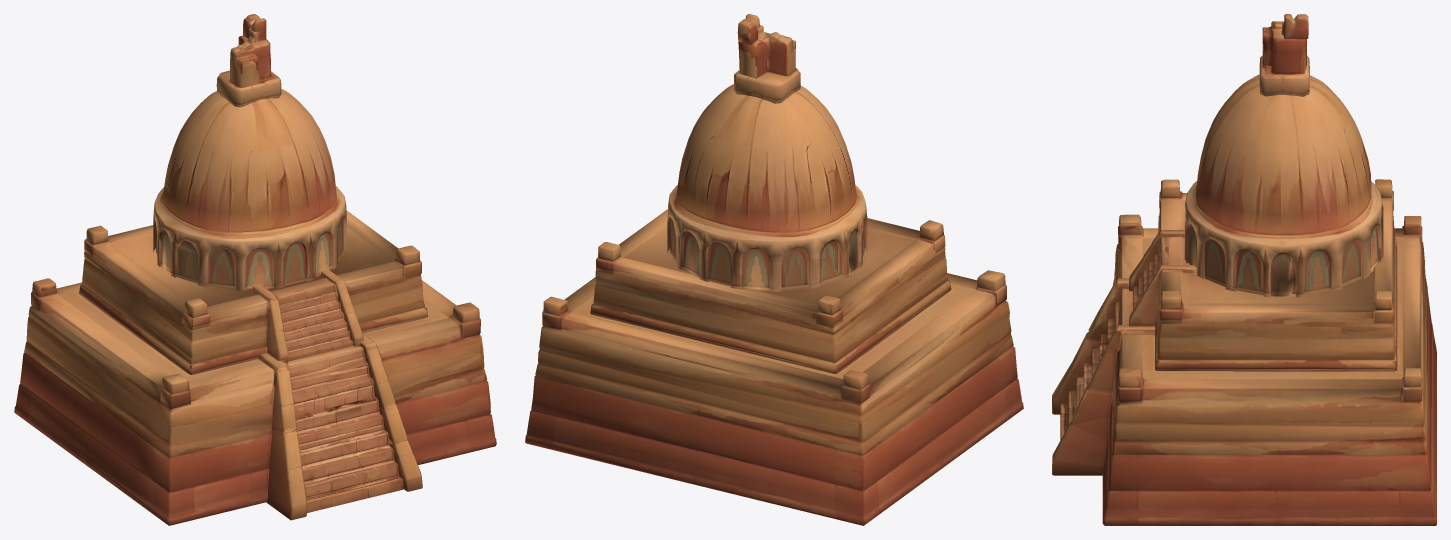
Rendered from SM_Tripo_DesertStupaBuried.glb.
The picture shows the model from 3 angles, left to right: view 1: azimuth 30°, elevation 25°; view 2: azimuth 150°, elevation 25°; view 3: azimuth 270°, elevation 25°; orthographic projection. The views are drawn at different scales.
Visible parts, largest first — view 1: SM_Tripo_DesertStupaBuried_LOD0; view 2: SM_Tripo_DesertStupaBuried_LOD0; view 3: SM_Tripo_DesertStupaBuried_LOD0.
Part boxes in pixels (bbox=[...]): SM_Tripo_DesertStupaBuried_LOD0: bbox=[14, 14, 496, 525]; SM_Tripo_DesertStupaBuried_LOD0: bbox=[525, 14, 1023, 525]; SM_Tripo_DesertStupaBuried_LOD0: bbox=[1052, 14, 1436, 525].
Size of the model in its own units: 9.45 by 11 by 8.88.
Materials: 1 (1 with a texture image).
